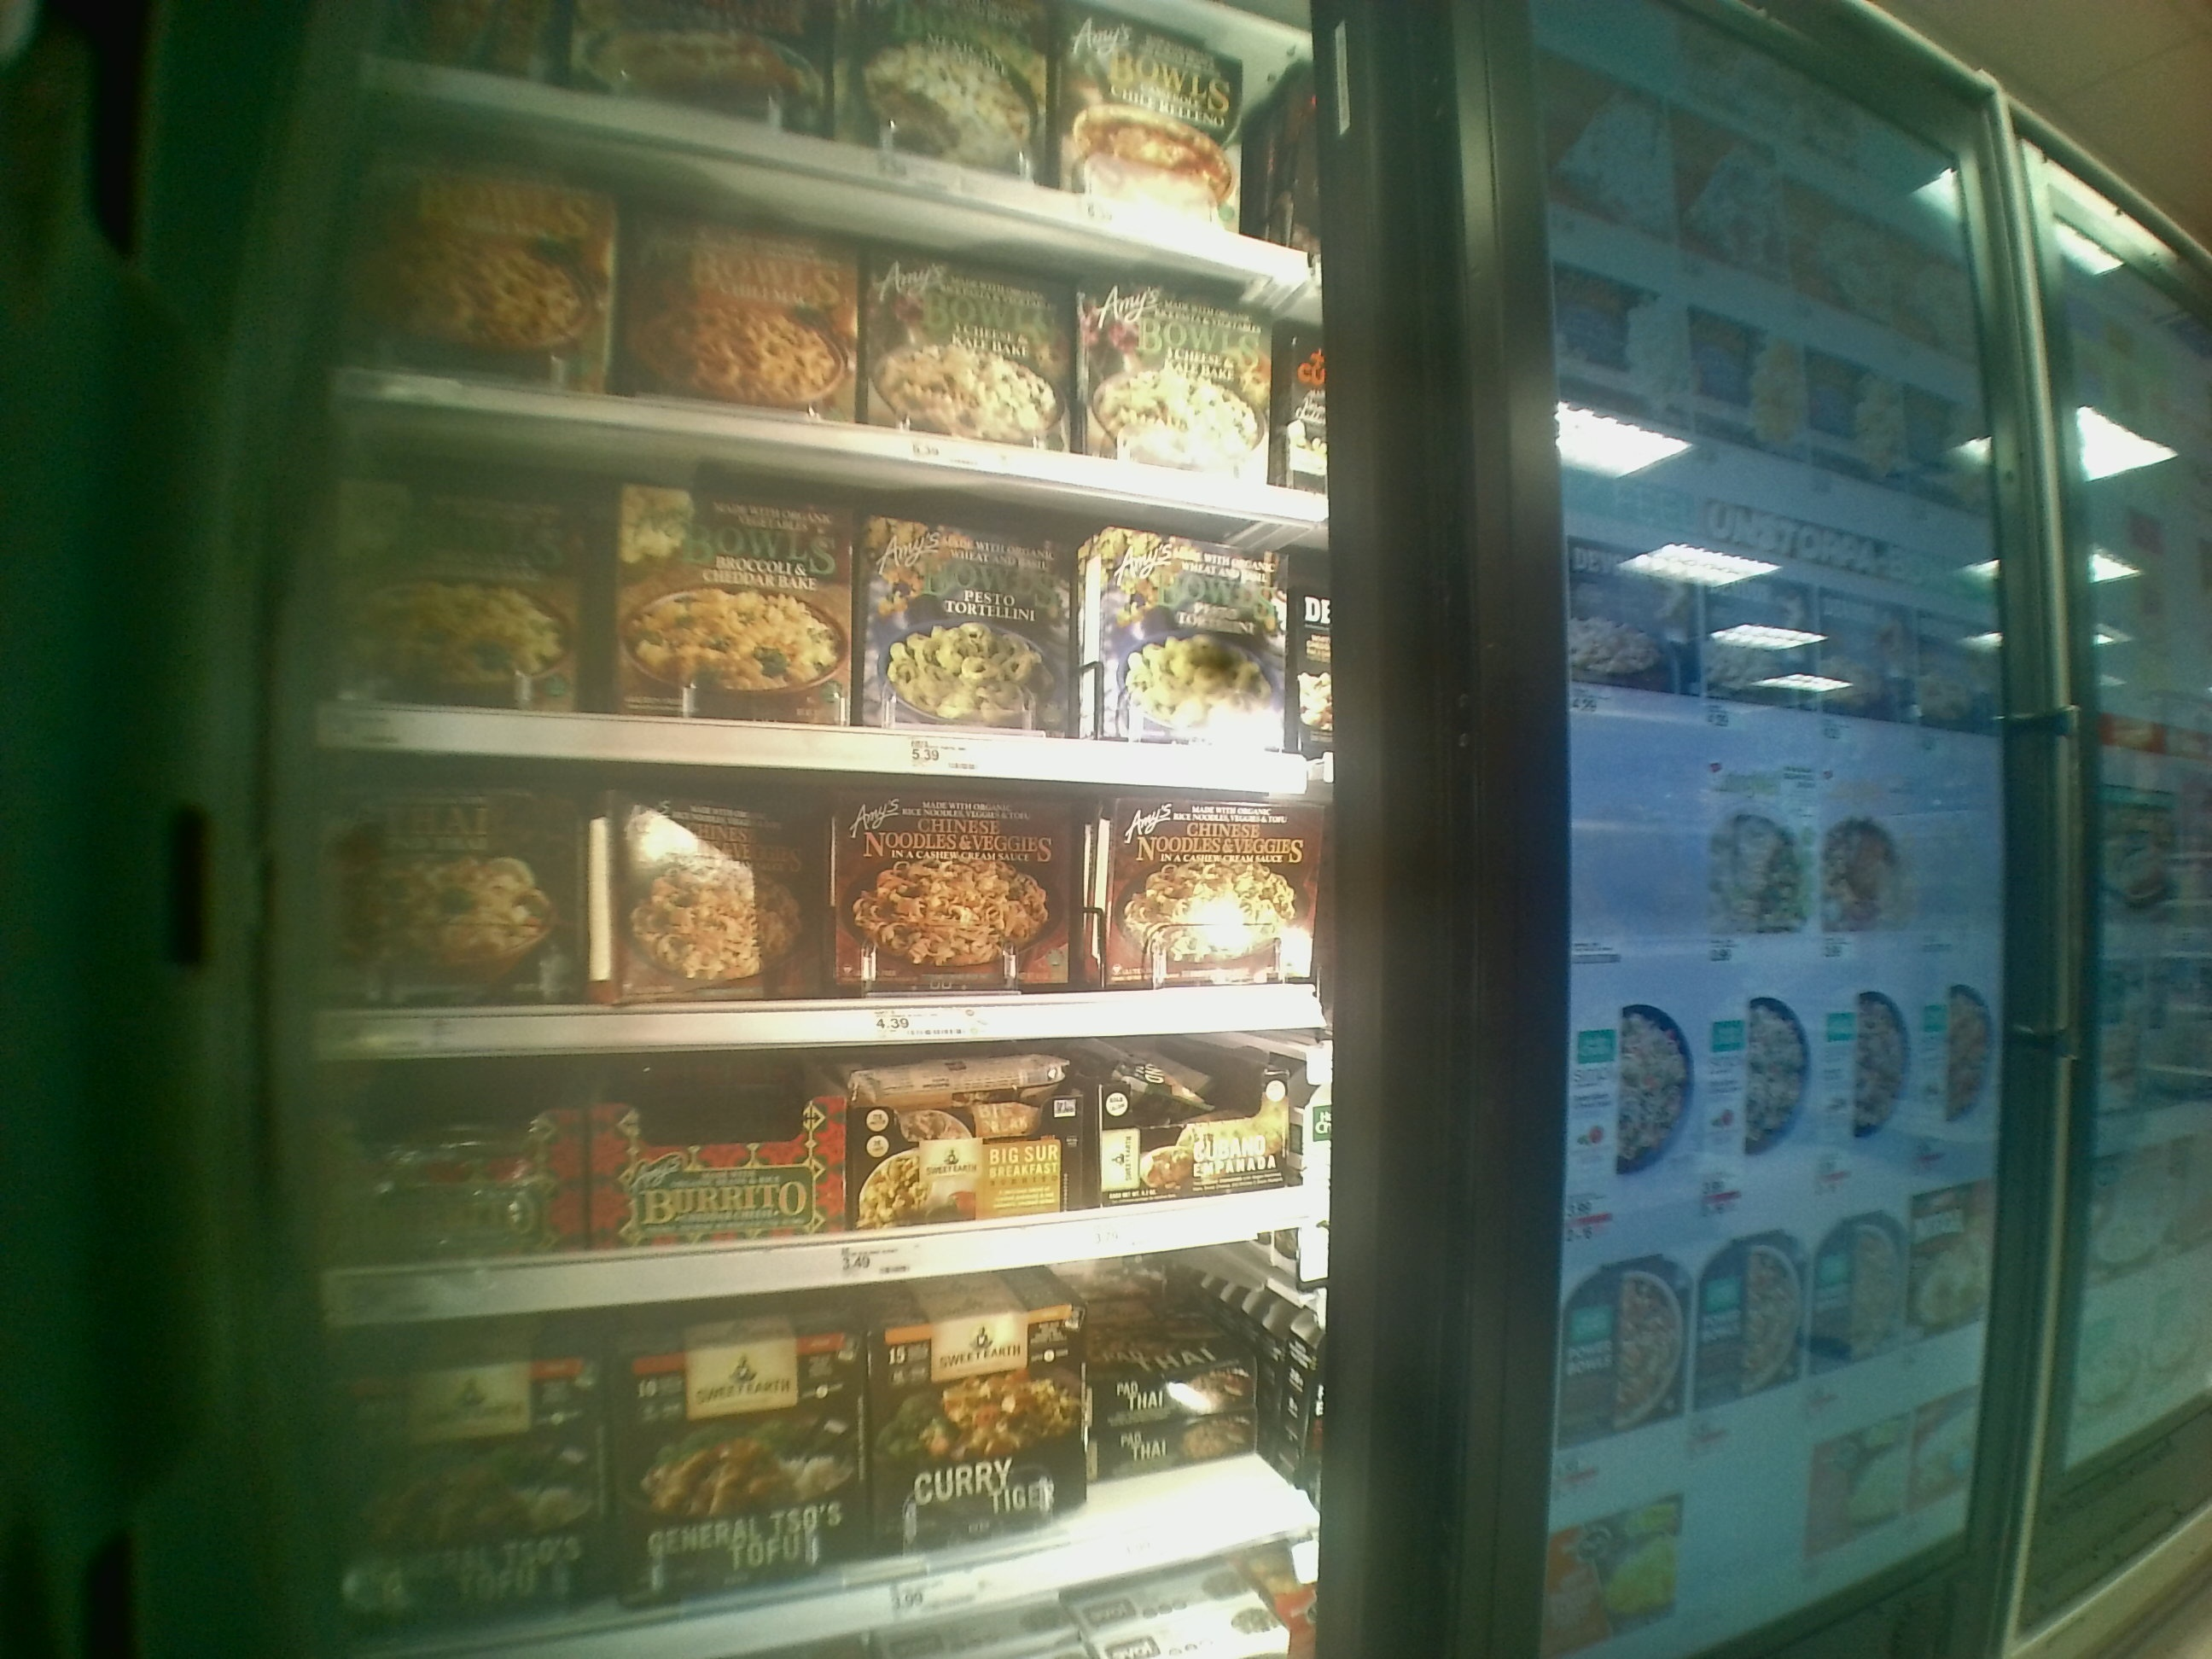shelf: (329, 1286, 1318, 1647), (305, 476, 1318, 786), (310, 753, 1327, 1060), (320, 1051, 1318, 1276)
